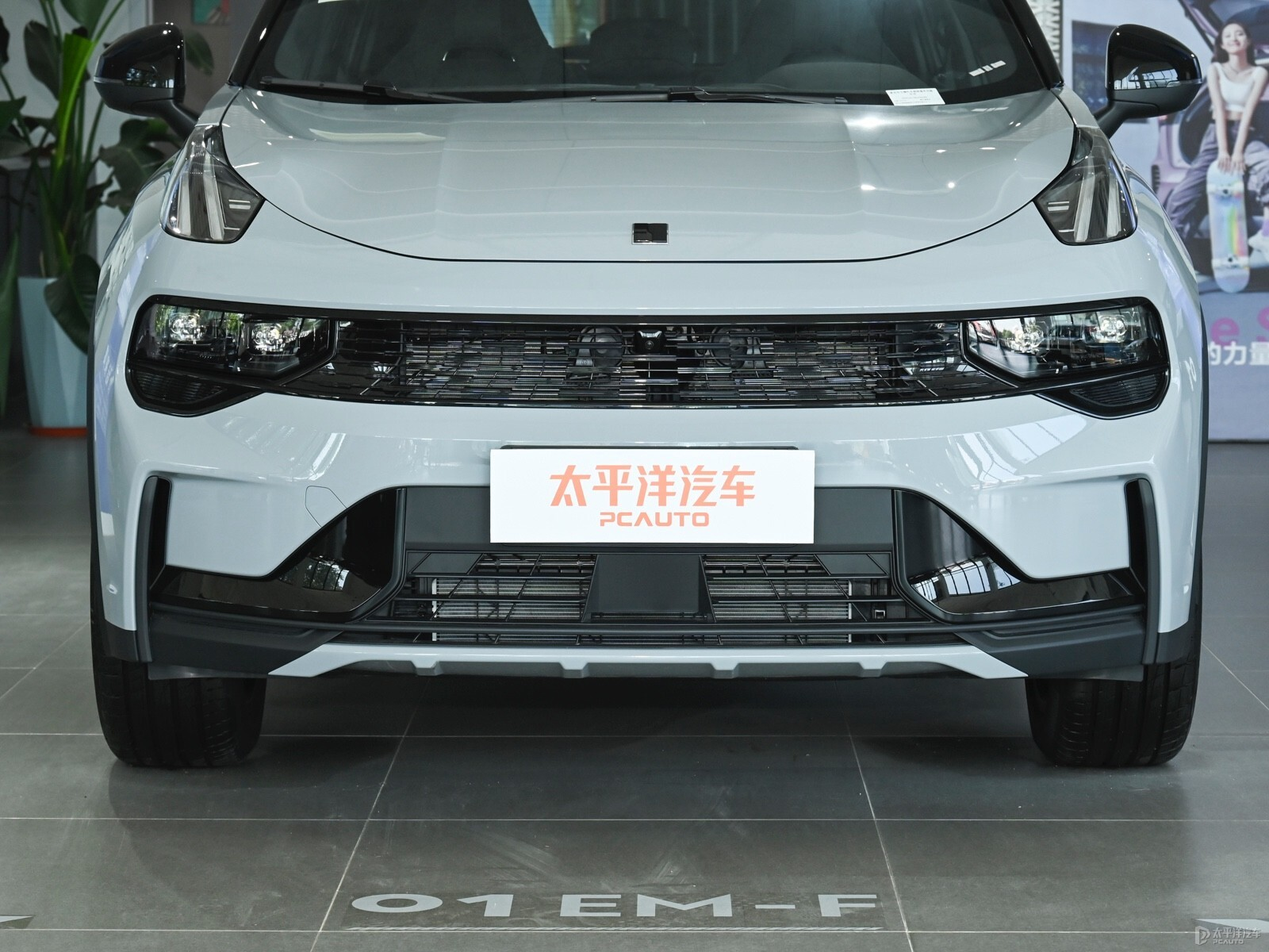LINK&CO: (634, 223, 667, 243)
